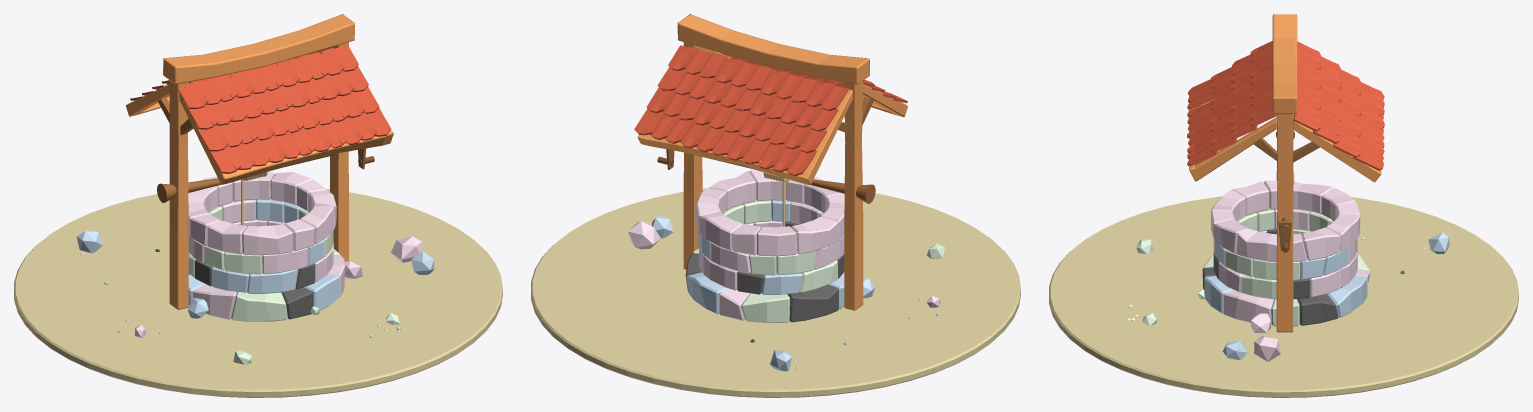
The model's file is well.fbx.
The picture shows the model from 3 angles, left to right: view 1: azimuth 30°, elevation 25°; view 2: azimuth 150°, elevation 25°; view 3: azimuth 270°, elevation 25°; orthographic projection. The views are drawn at different scales.
Parts seen in each view (by area): view 1: Cylinder.004, Cube.003, Cube.004, Cube.006, Cube, Cube.002, Cube.001, Cube.005, Cylinder, Icosphere.002, Plane.002, Plane.039 (+9 smaller); view 2: Cylinder.004, Cube.003, Cube.006, Cube.004, Cube, Cube.002, Cube.001, Cube.005, Cylinder, Icosphere.002, Plane.046, Plane.083 (+8 smaller); view 3: Cylinder.004, Cube.003, Cube, Cube.002, Cube.006, Cube.004, Cube.001, Cube.005, Icosphere.002.
Boxes of the visible parts, x1,y1,x2,y2 form: Cylinder.004: [14, 189, 502, 397]; Cube.003: [188, 171, 336, 255]; Cube.004: [169, 42, 348, 309]; Cube.006: [126, 14, 355, 116]; Cube: [188, 249, 344, 321]; Cube.002: [188, 199, 333, 274]; Cube.001: [188, 219, 333, 293]; Cube.005: [179, 87, 393, 184]; Cylinder: [157, 153, 335, 202]; Icosphere.002: [391, 236, 421, 262]; Plane.002: [177, 81, 208, 108]; Plane.039: [208, 146, 240, 173]; Cylinder.004: [531, 188, 1020, 397]; Cube.003: [696, 170, 844, 256]; Cube.006: [637, 14, 869, 184]; Cube.004: [683, 42, 863, 310]; Cube: [685, 249, 844, 322]; Cube.002: [698, 199, 844, 275]; Cube.001: [699, 217, 844, 294]; Cube.005: [702, 48, 907, 116]; Cylinder: [698, 155, 875, 203]; Icosphere.002: [628, 221, 660, 249]; Plane.046: [668, 45, 698, 70]; Plane.083: [634, 109, 664, 135]; Cylinder.004: [1049, 196, 1518, 397]; Cube.003: [1211, 180, 1360, 262]; Cube: [1202, 254, 1370, 326]; Cube.002: [1213, 208, 1357, 280]; Cube.006: [1272, 14, 1381, 182]; Cube.004: [1276, 114, 1293, 332]; Cube.001: [1213, 228, 1357, 299]; Cube.005: [1188, 95, 1276, 181]; Icosphere.002: [1254, 336, 1280, 361].
Bounding box in the file's own units: 3853 × 2211 × 3851.
